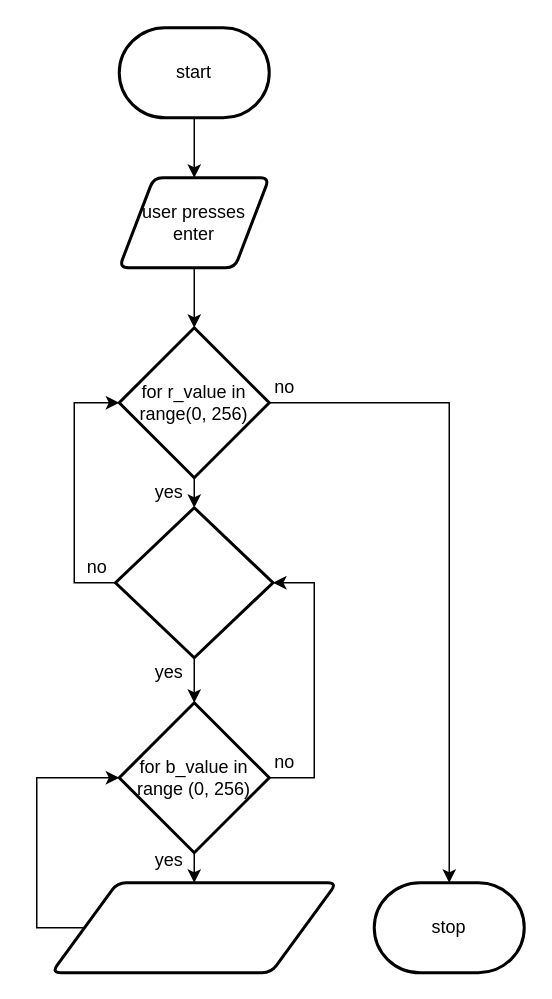
The diagram is 552 pixels wide and 999 high, and some of its shapes have lost their labels. Each missing label, with the centre of its shape:
for g_value in range (0,256): [193,582]
print("R {0} G {1} B {2}".format(r_value, g_value, b_value"): [194,927]
